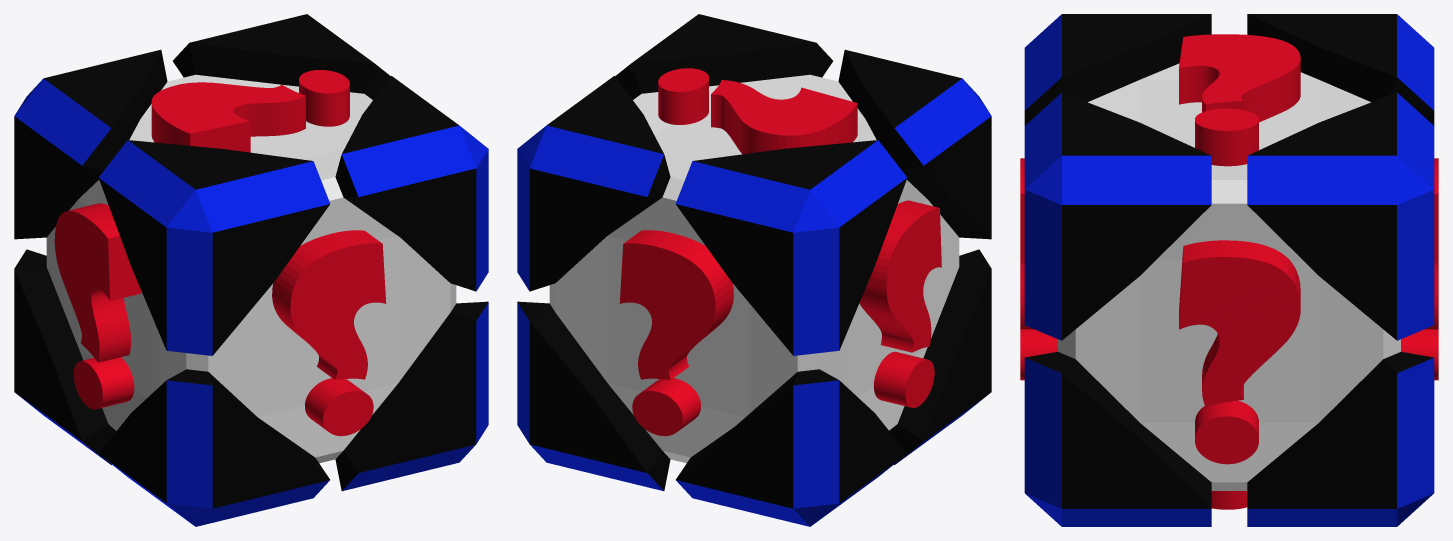
Rendered from PowerCube4.fbx.
3 views of the same model, side by side, from view 1: azimuth 30°, elevation 25°; view 2: azimuth 150°, elevation 25°; view 3: azimuth 270°, elevation 25° (orthographic). The views are drawn at different scales.
Visible parts, largest first — view 1: PowerCube; view 2: PowerCube; view 3: PowerCube.
Part boxes in pixels (x1,y1,x2,y2): PowerCube: (14, 14, 488, 526); PowerCube: (517, 14, 991, 526); PowerCube: (1020, 14, 1438, 526).
Size of the model in its own units: 1225 by 1225 by 1225.
